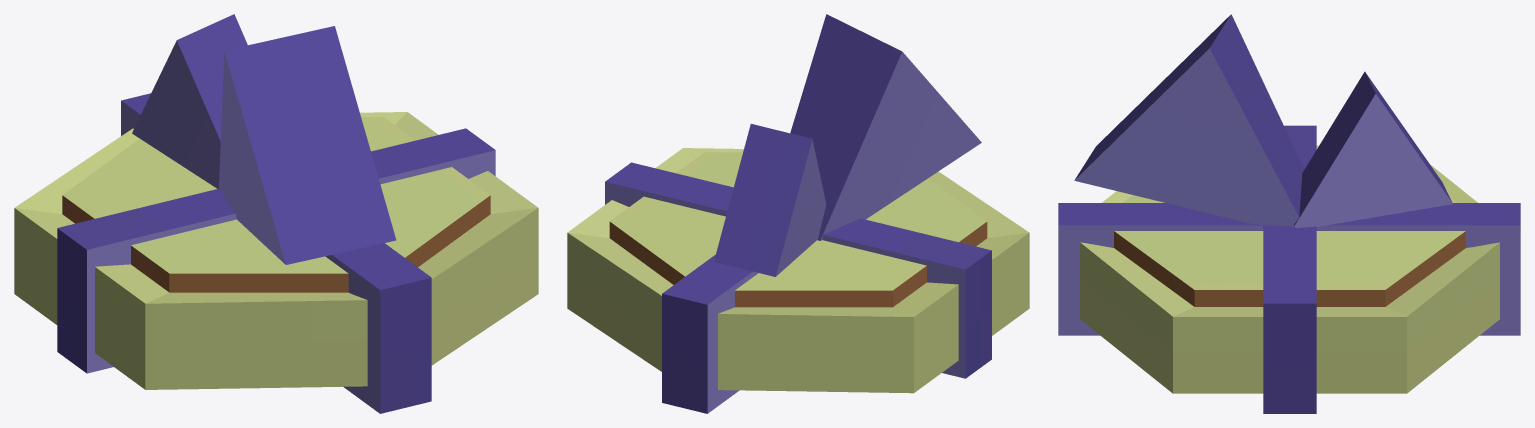
File: cokie (2).glb
3 views of the same model, side by side, from view 1: azimuth 30°, elevation 25°; view 2: azimuth 150°, elevation 25°; view 3: azimuth 270°, elevation 25° (orthographic). The views are drawn at different scales.
Visible parts, largest first — view 1: Cube.002; view 2: Cube.002; view 3: Cube.002.
Part boxes in pixels (x1,y1,x2,y2): Cube.002: [14, 14, 538, 413]; Cube.002: [567, 14, 1029, 413]; Cube.002: [1058, 14, 1520, 413].
Size of the model in its own units: 1.8 by 1.33 by 1.98.
2 materials, 2 textured.
